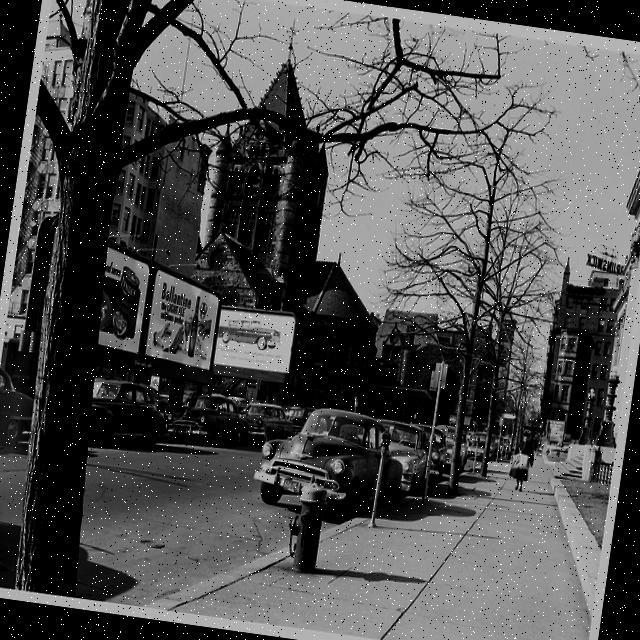fire_hydrant: (281, 481, 330, 576)
